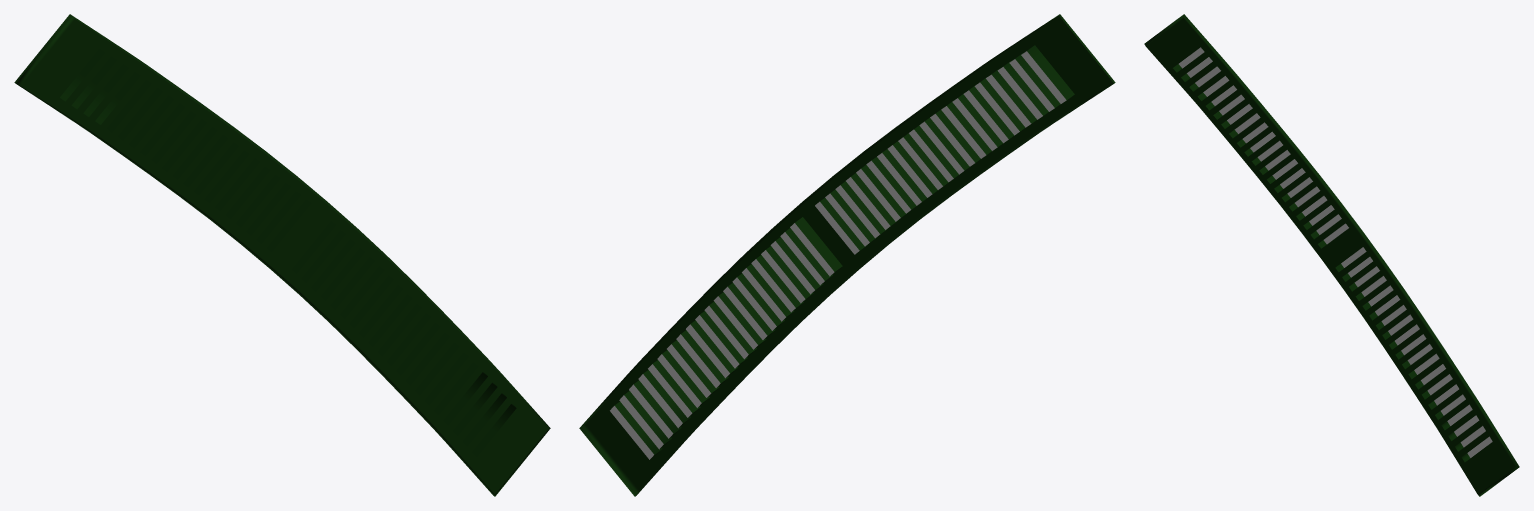
File: Hood_Water_Thing.obj
3 renders of one model, left to right at view 1: azimuth 30°, elevation 25°; view 2: azimuth 150°, elevation 25°; view 3: azimuth 330°, elevation 25°, orthographic. The views are drawn at different scales.
Visible parts, largest first — view 1: Hood_Water_Thing; view 2: Hood_Water_Thing; view 3: Hood_Water_Thing.
Part boxes in pixels (left/top/right/bottom): Hood_Water_Thing: left=14, top=14, right=550, bottom=496; Hood_Water_Thing: left=579, top=14, right=1115, bottom=496; Hood_Water_Thing: left=1144, top=14, right=1519, bottom=496.
Size of the model in its own units: 1.01 by 1.06 by 0.0267.
